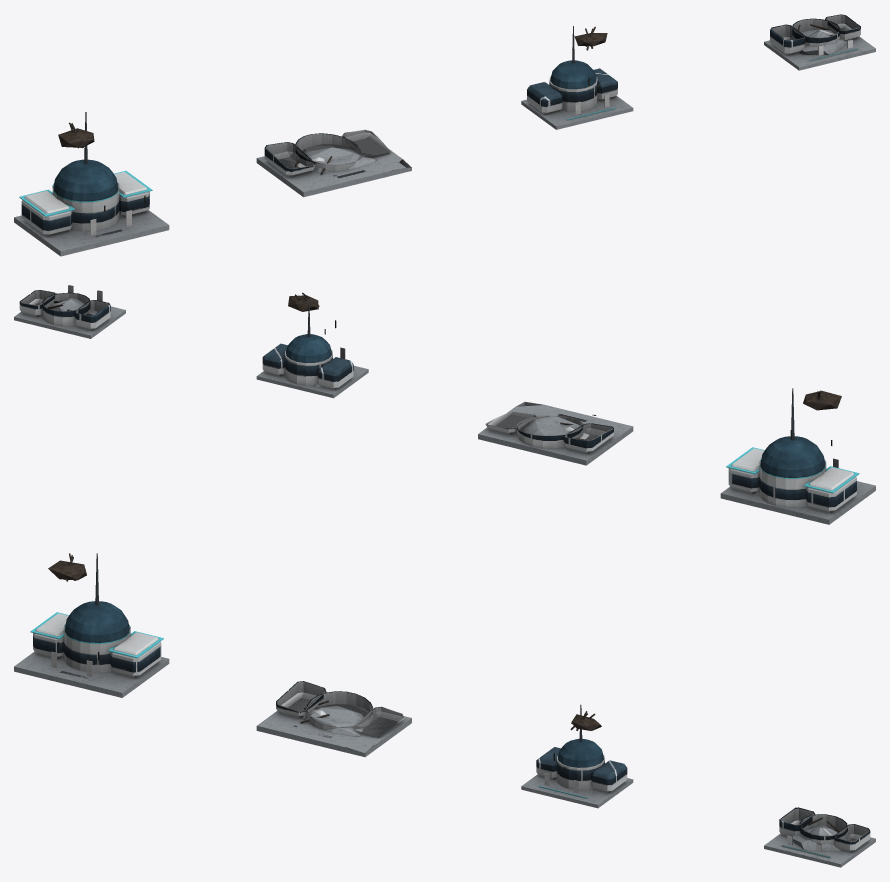
File: palace-damage-future.glb
3 views of the same model, one above another, from view 1: azimuth 30°, elevation 25°; view 2: azimuth 150°, elevation 25°; view 3: azimuth 330°, elevation 25° (orthographic).
Parts seen in each view (by area): view 1: LOD0, LOD0.001, LOD0.002, LOD0.003; view 2: LOD0, LOD0.001, LOD0.002, LOD0.003; view 3: LOD0, LOD0.001, LOD0.002, LOD0.003.
Boxes of the visible parts, bbox=[...] form: LOD0: bbox=[14, 112, 169, 256]; LOD0.001: bbox=[256, 129, 411, 197]; LOD0.002: bbox=[521, 26, 633, 129]; LOD0.003: bbox=[764, 14, 875, 70]; LOD0: bbox=[720, 388, 875, 524]; LOD0.001: bbox=[478, 402, 633, 465]; LOD0.002: bbox=[256, 292, 368, 398]; LOD0.003: bbox=[14, 285, 125, 338]; LOD0: bbox=[14, 553, 169, 697]; LOD0.001: bbox=[256, 681, 411, 756]; LOD0.002: bbox=[521, 704, 633, 808]; LOD0.003: bbox=[764, 807, 875, 867].
Size of what is drawn, in the model's own units: 10.15 by 1.3 by 1.
Materials: 2 (2 with a texture image).
